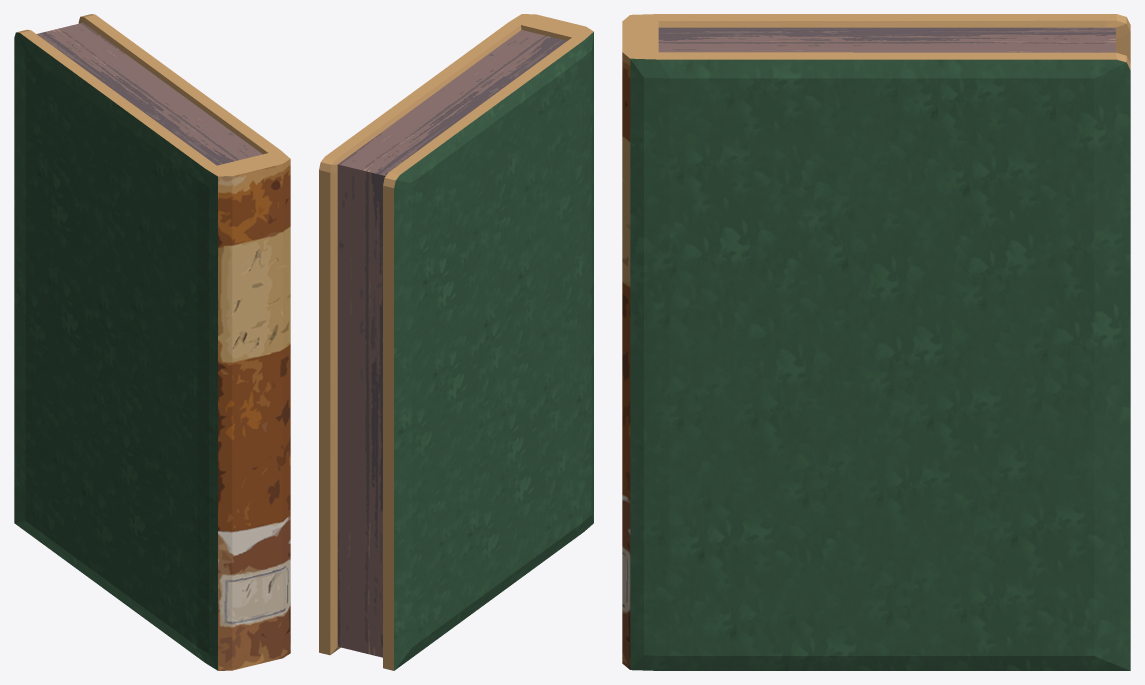
Rendered from Buch01.FBX.
3 views of the same model, side by side, from view 1: azimuth 30°, elevation 25°; view 2: azimuth 150°, elevation 25°; view 3: azimuth 270°, elevation 25° (orthographic). The views are drawn at different scales.
Visible parts, largest first — view 1: book; view 2: book; view 3: book.
Boxes of the visible parts, <box> form: book: <box>14,14,290,670</box>; book: <box>319,14,593,670</box>; book: <box>622,14,1130,670</box>.
Size of the model in its own units: 49.66 by 286 by 215.
Materials: 1 (1 with a texture image).
